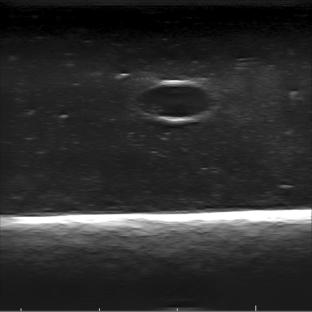vessel: (137, 79, 219, 123)
